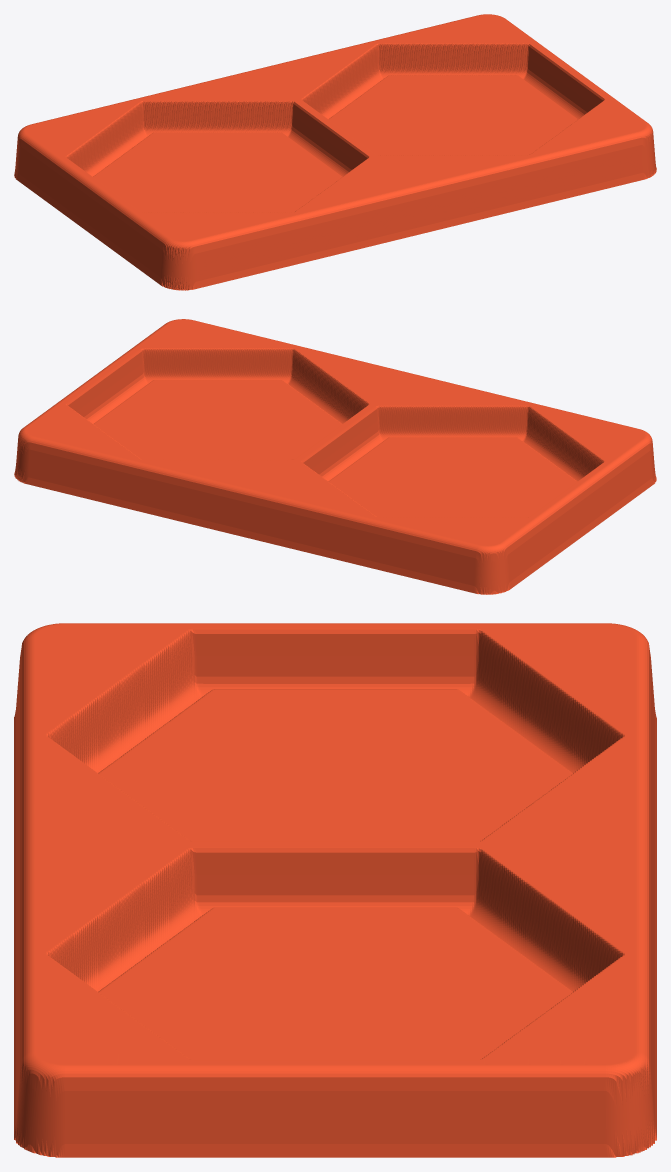
The model's file is mold.glb.
The picture shows the model from 3 angles, top to bottom: view 1: azimuth 30°, elevation 25°; view 2: azimuth 150°, elevation 25°; view 3: azimuth 270°, elevation 25°; orthographic projection. The views are drawn at different scales.
Parts seen in each view (by area): view 1: geometry_0; view 2: geometry_0; view 3: geometry_0.
Boxes of the visible parts, x1,y1,x2,y2 form: geometry_0: (14, 14, 656, 290); geometry_0: (14, 319, 656, 594); geometry_0: (14, 623, 656, 1157).
Size of the model in its own units: 0.1922 by 0.0165 by 0.1141.
